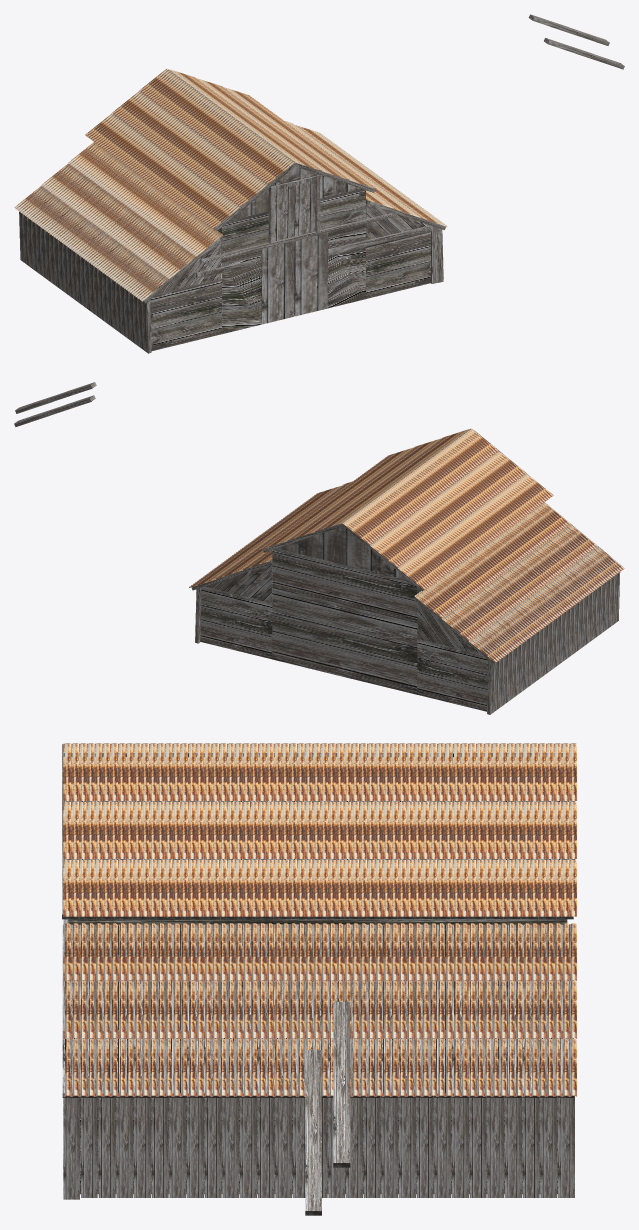
Rendered from ambar(0.4).fbx.
The picture shows the model from 3 angles, top to bottom: view 1: azimuth 30°, elevation 25°; view 2: azimuth 150°, elevation 25°; view 3: azimuth 270°, elevation 25°; orthographic projection. The views are drawn at different scales.
Visible parts, largest first — view 1: Cube.007, Cube.008, Cube.002, Cube.006, Cube.010, Cube.001, Cube.004, Cube.018, Cube.019, Cube.005, Cylinder.002, Cube.014 (+8 smaller); view 2: Cube.007, Cube.008, Cube.001, Cube.002, Cube.006, Cube.010, Cube.004, Cylinder.002, Cube.005, Cylinder.001, Cylinder, Cube.016 (+1 smaller); view 3: Cube.007, Cube.008, Cube.009, Cube.006, Cube.005, Cube.002, Cube.017, Cube.016, Cube.004.
Part boxes in pixels (<box>): Cube.007: <box>85,68,376,228</box>; Cube.008: <box>14,121,447,301</box>; Cube.002: <box>150,232,430,350</box>; Cube.006: <box>17,127,445,302</box>; Cube.010: <box>19,211,151,353</box>; Cube.001: <box>222,228,365,334</box>; Cube.004: <box>218,188,365,262</box>; Cube.018: <box>261,241,294,324</box>; Cube.019: <box>294,233,327,316</box>; Cube.005: <box>90,70,375,230</box>; Cylinder.002: <box>231,166,360,219</box>; Cube.014: <box>294,180,315,236</box>; Cube.007: <box>260,428,553,589</box>; Cube.008: <box>189,481,624,662</box>; Cube.001: <box>272,588,417,694</box>; Cube.002: <box>200,586,488,711</box>; Cube.006: <box>191,488,622,663</box>; Cube.010: <box>487,572,620,714</box>; Cube.004: <box>272,548,421,623</box>; Cylinder.002: <box>278,526,408,580</box>; Cube.005: <box>262,429,536,591</box>; Cylinder.001: <box>205,563,272,603</box>; Cylinder: <box>417,601,480,653</box>; Cube.016: <box>14,395,95,426</box>; Cube.007: <box>63,743,576,916</box>; Cube.008: <box>63,923,576,1096</box>; Cube.009: <box>63,1095,574,1199</box>; Cube.006: <box>62,801,574,1097</box>; Cube.005: <box>62,744,573,919</box>; Cube.002: <box>80,1096,557,1194</box>; Cube.017: <box>333,1001,350,1167</box>; Cube.016: <box>305,1050,321,1215</box>; Cube.004: <box>68,916,567,924</box>.
Bounding box in the file's own units: 5945 × 1843 × 2440.
